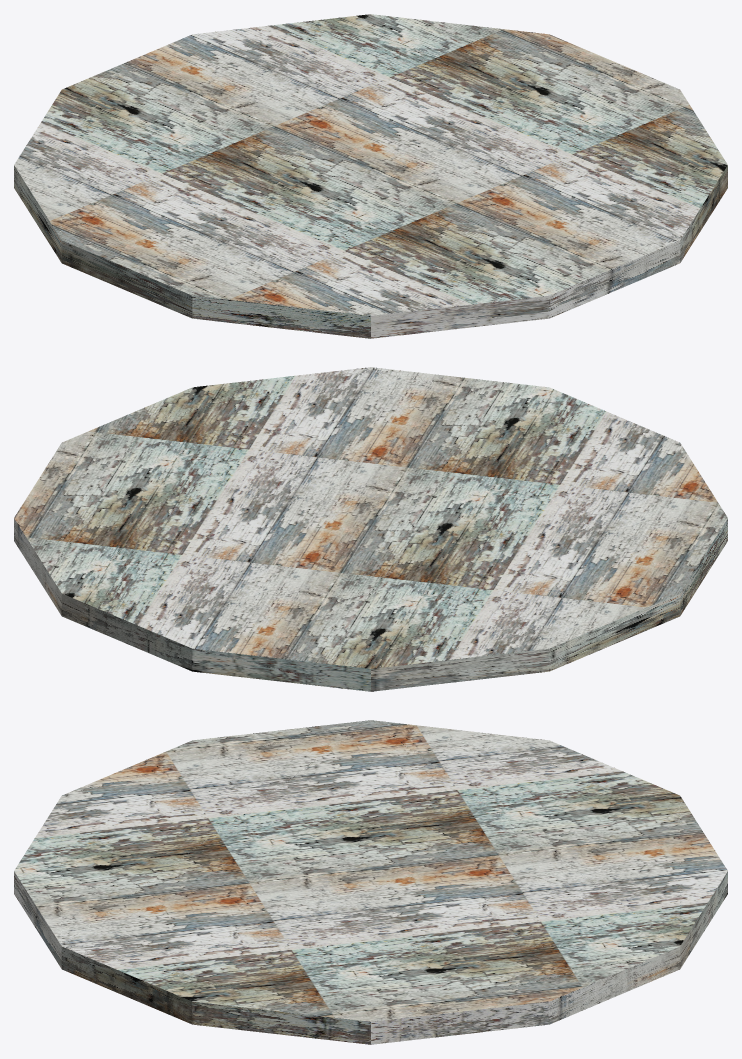
The model's file is start.glb.
3 renders of one model, top to bottom at view 1: azimuth 30°, elevation 25°; view 2: azimuth 150°, elevation 25°; view 3: azimuth 270°, elevation 25°, orthographic.
Parts seen in each view (by area): view 1: Cylinder; view 2: Cylinder; view 3: Cylinder.
Part boxes in pixels (x1,y1,x2,y2): Cylinder: [14, 14, 727, 338]; Cylinder: [14, 367, 727, 691]; Cylinder: [14, 720, 727, 1044].
Bounding box in the file's own units: 7.52 × 0.2668 × 7.52.
1 material, 1 textured.
